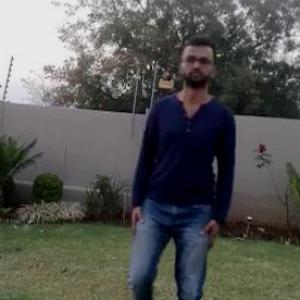follow: (134, 43, 230, 299)
